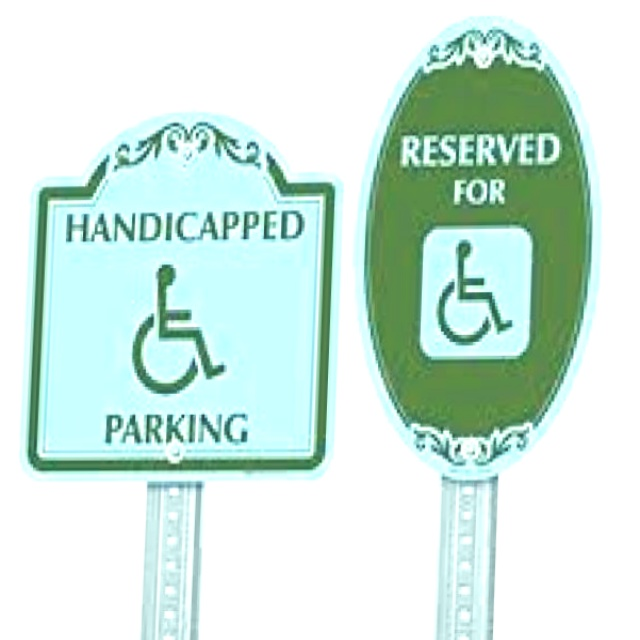ISA: (125, 260, 235, 398), (425, 234, 527, 355)
